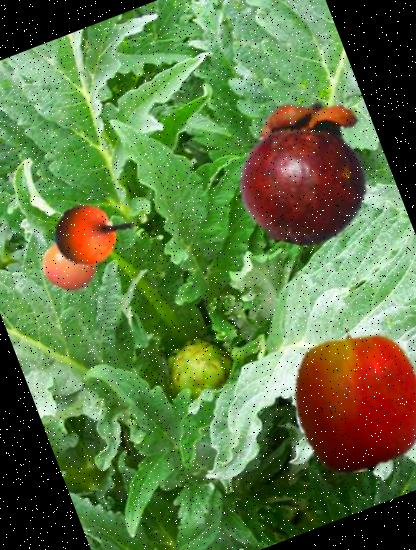Apple: (265, 306, 416, 493)
Granadilla: (40, 179, 142, 281)
Grapefruit: (34, 230, 106, 302)
Mangostan: (210, 74, 404, 268)
